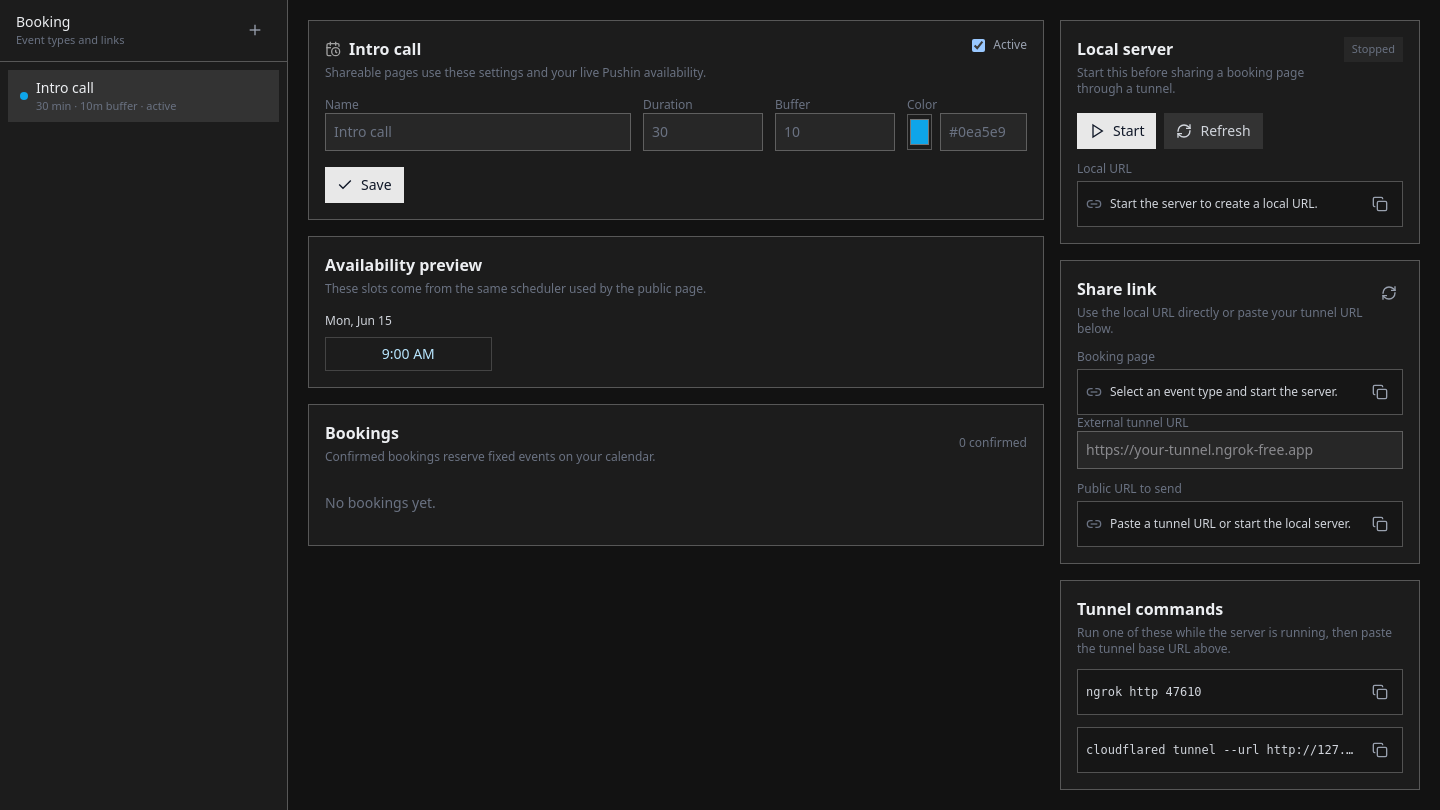
it: BookingPane › renders event type controls and starts the local server
Check: the field showing "Intro call" is shown, box [325,113,631,151]
Step 1. Click the button "Start" → (1117, 131), box [1077,113,1156,149]
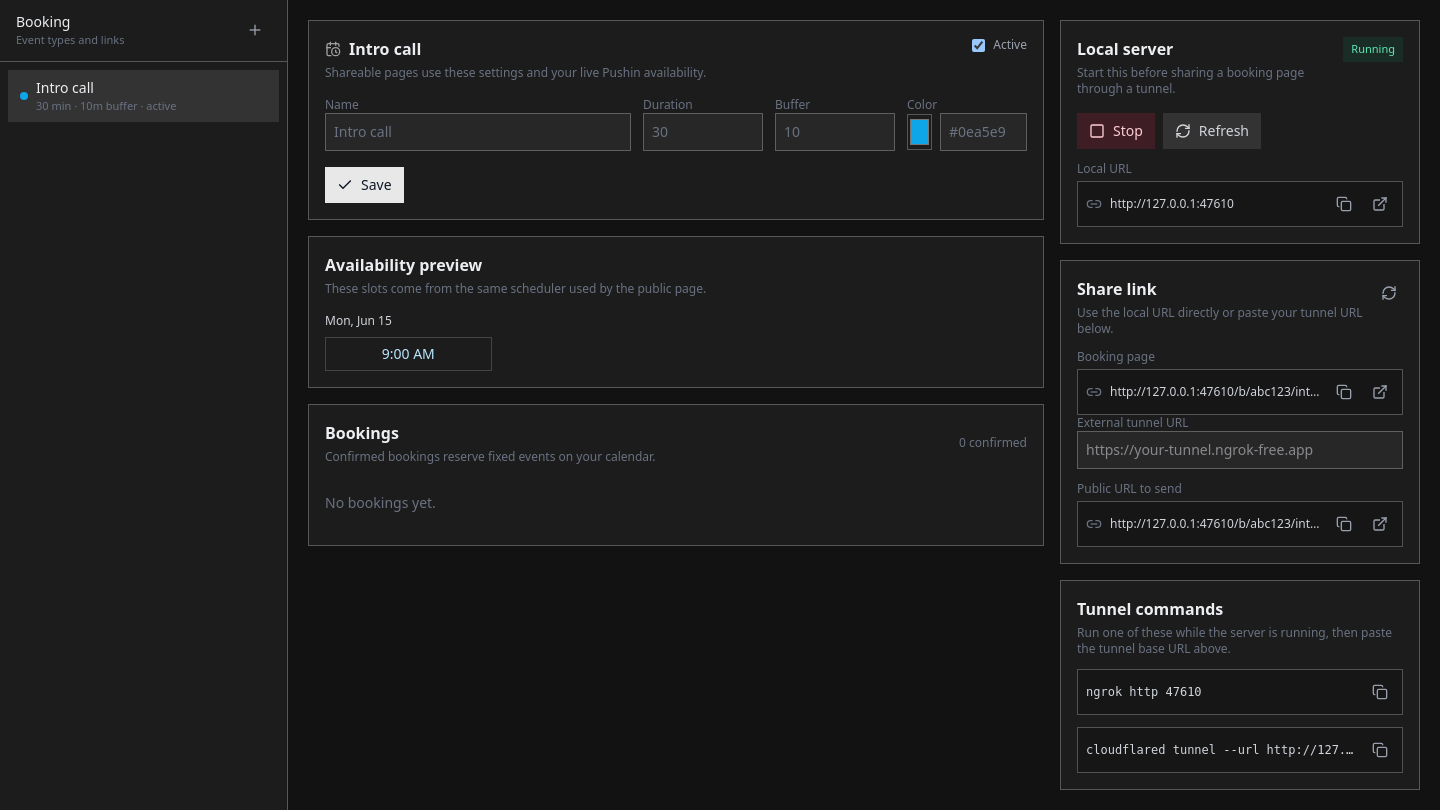
Check: the 1st text "http://127.0.0.1:47610/b/abc123/intro-call-1" is shown, box [1110,384,1322,400]
